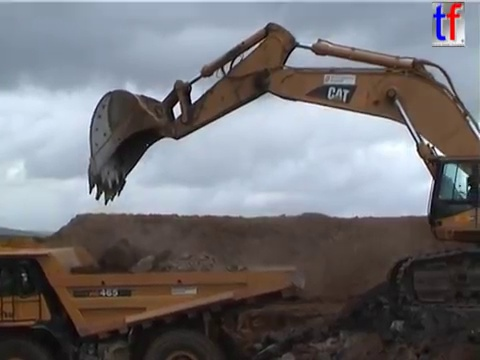excavator: (84, 19, 480, 313)
truck: (1, 232, 308, 360)
